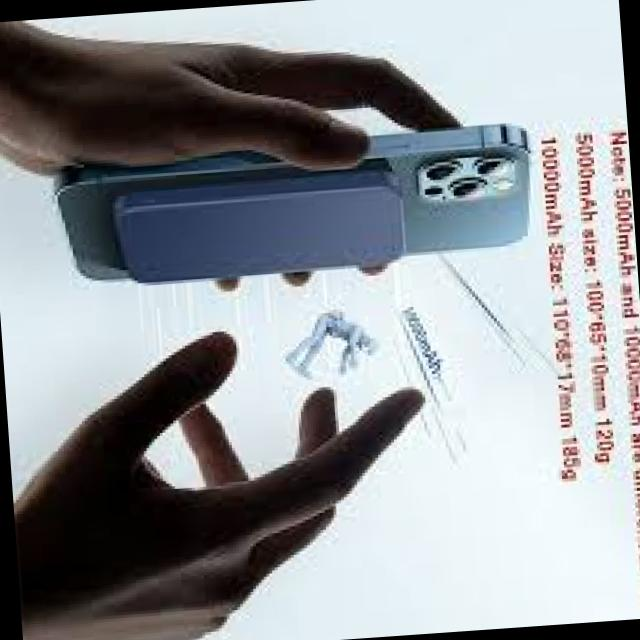power_bank: (110, 168, 415, 293)
